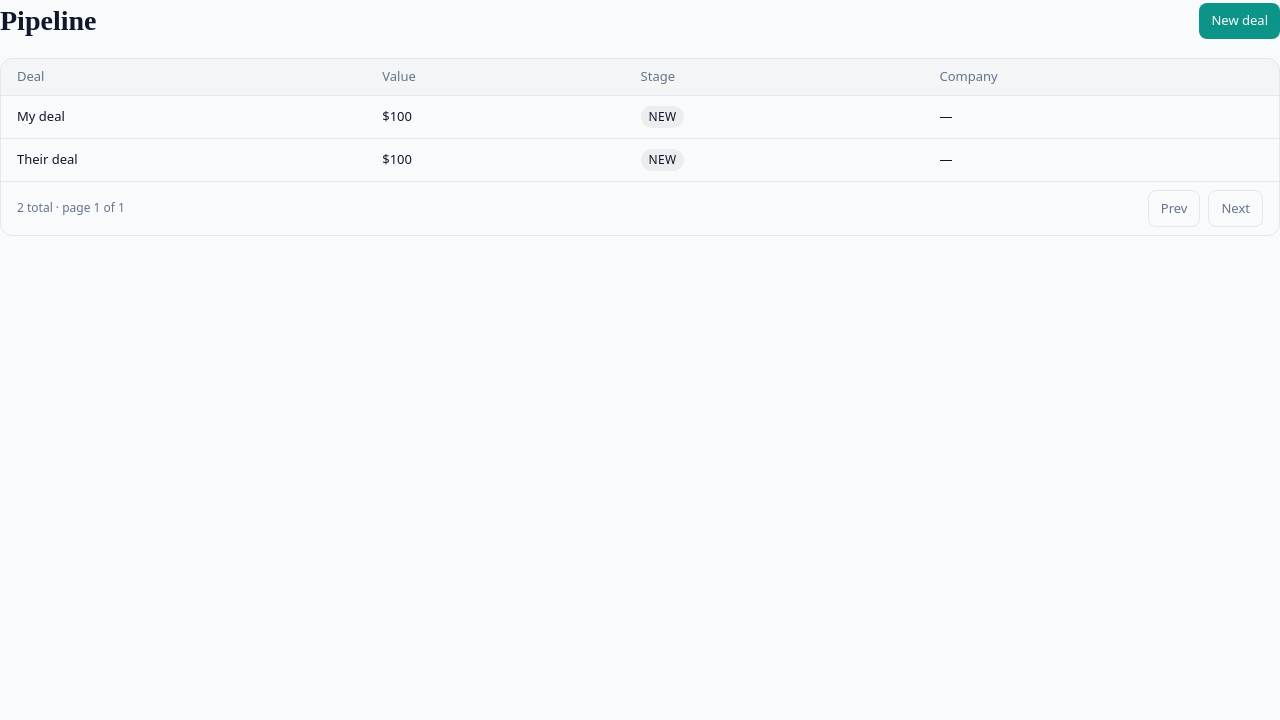
Test: deal edit dialog › is read-only for a member on someone else's record
Step 1. Click the text "Their deal" → (47,159), box x1=1 y1=138 x2=366 y2=180
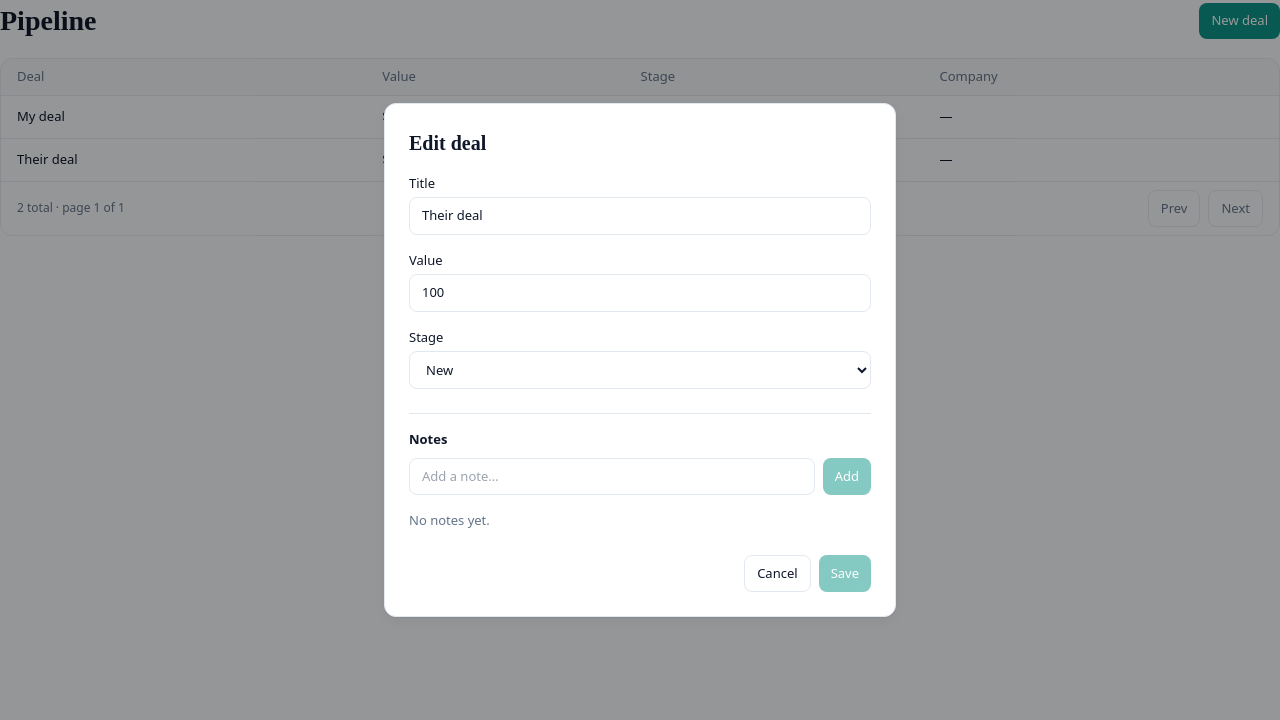
Result: the button "Save" is disabled at x1=819 y1=555 x2=871 y2=592
